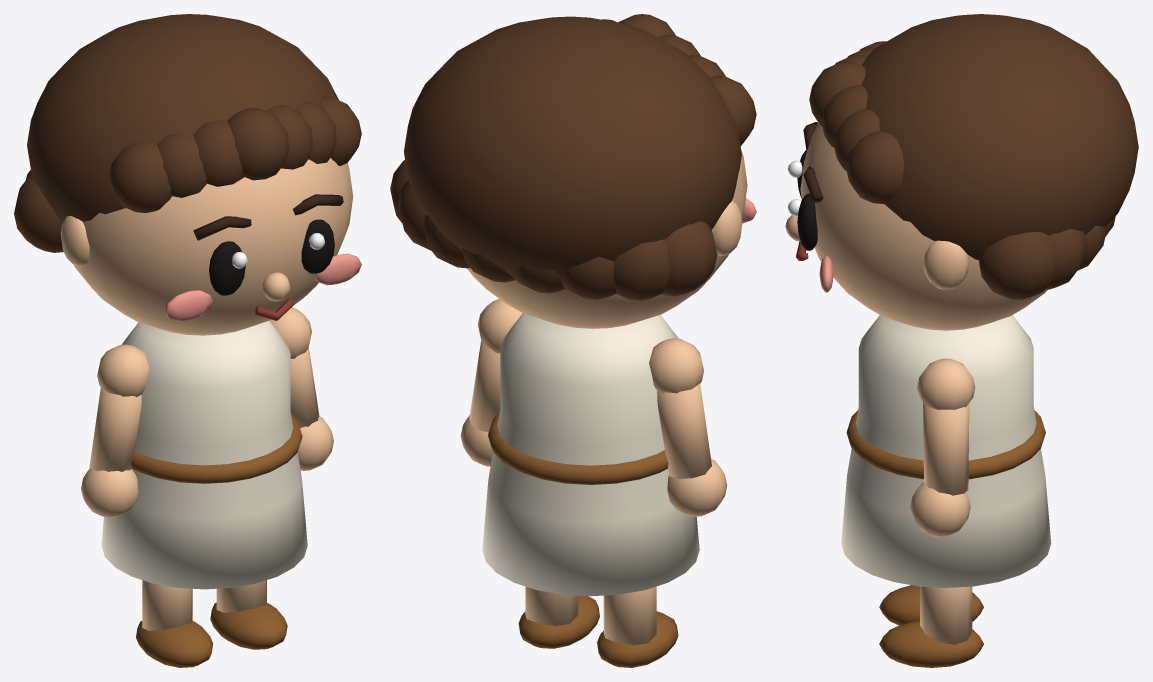
The model's file is prisioneiro.glb.
3 views of the same model, side by side, from view 1: azimuth 30°, elevation 25°; view 2: azimuth 150°, elevation 25°; view 3: azimuth 270°, elevation 25° (orthographic). The views are drawn at different scales.
Visible parts, largest first — view 1: CabecaMalha, Corpo, BracoDMalha, PernaDMalha, BracoEMalha, PernaEMalha; view 2: CabecaMalha, Corpo, BracoDMalha, PernaDMalha, BracoEMalha, PernaEMalha; view 3: CabecaMalha, Corpo, BracoEMalha, PernaEMalha, PernaDMalha.
Part boxes in pixels (x1,y1,x2,y2): CabecaMalha: (14,14,361,335); Corpo: (101,320,307,589); BracoDMalha: (81,344,149,518); PernaDMalha: (136,580,212,667); BracoEMalha: (269,307,333,470); PernaEMalha: (210,580,287,649); CabecaMalha: (390,14,756,328); Corpo: (482,313,699,596); BracoDMalha: (649,338,727,516); PernaDMalha: (597,586,678,667); BracoEMalha: (460,299,522,466); PernaEMalha: (518,586,599,648); CabecaMalha: (785,14,1138,330); Corpo: (841,315,1051,587); BracoEMalha: (910,358,975,537); PernaEMalha: (879,586,983,667); PernaDMalha: (879,585,983,625).
Bounding box in the file's own units: 0.5992 × 1.16 × 0.606.
